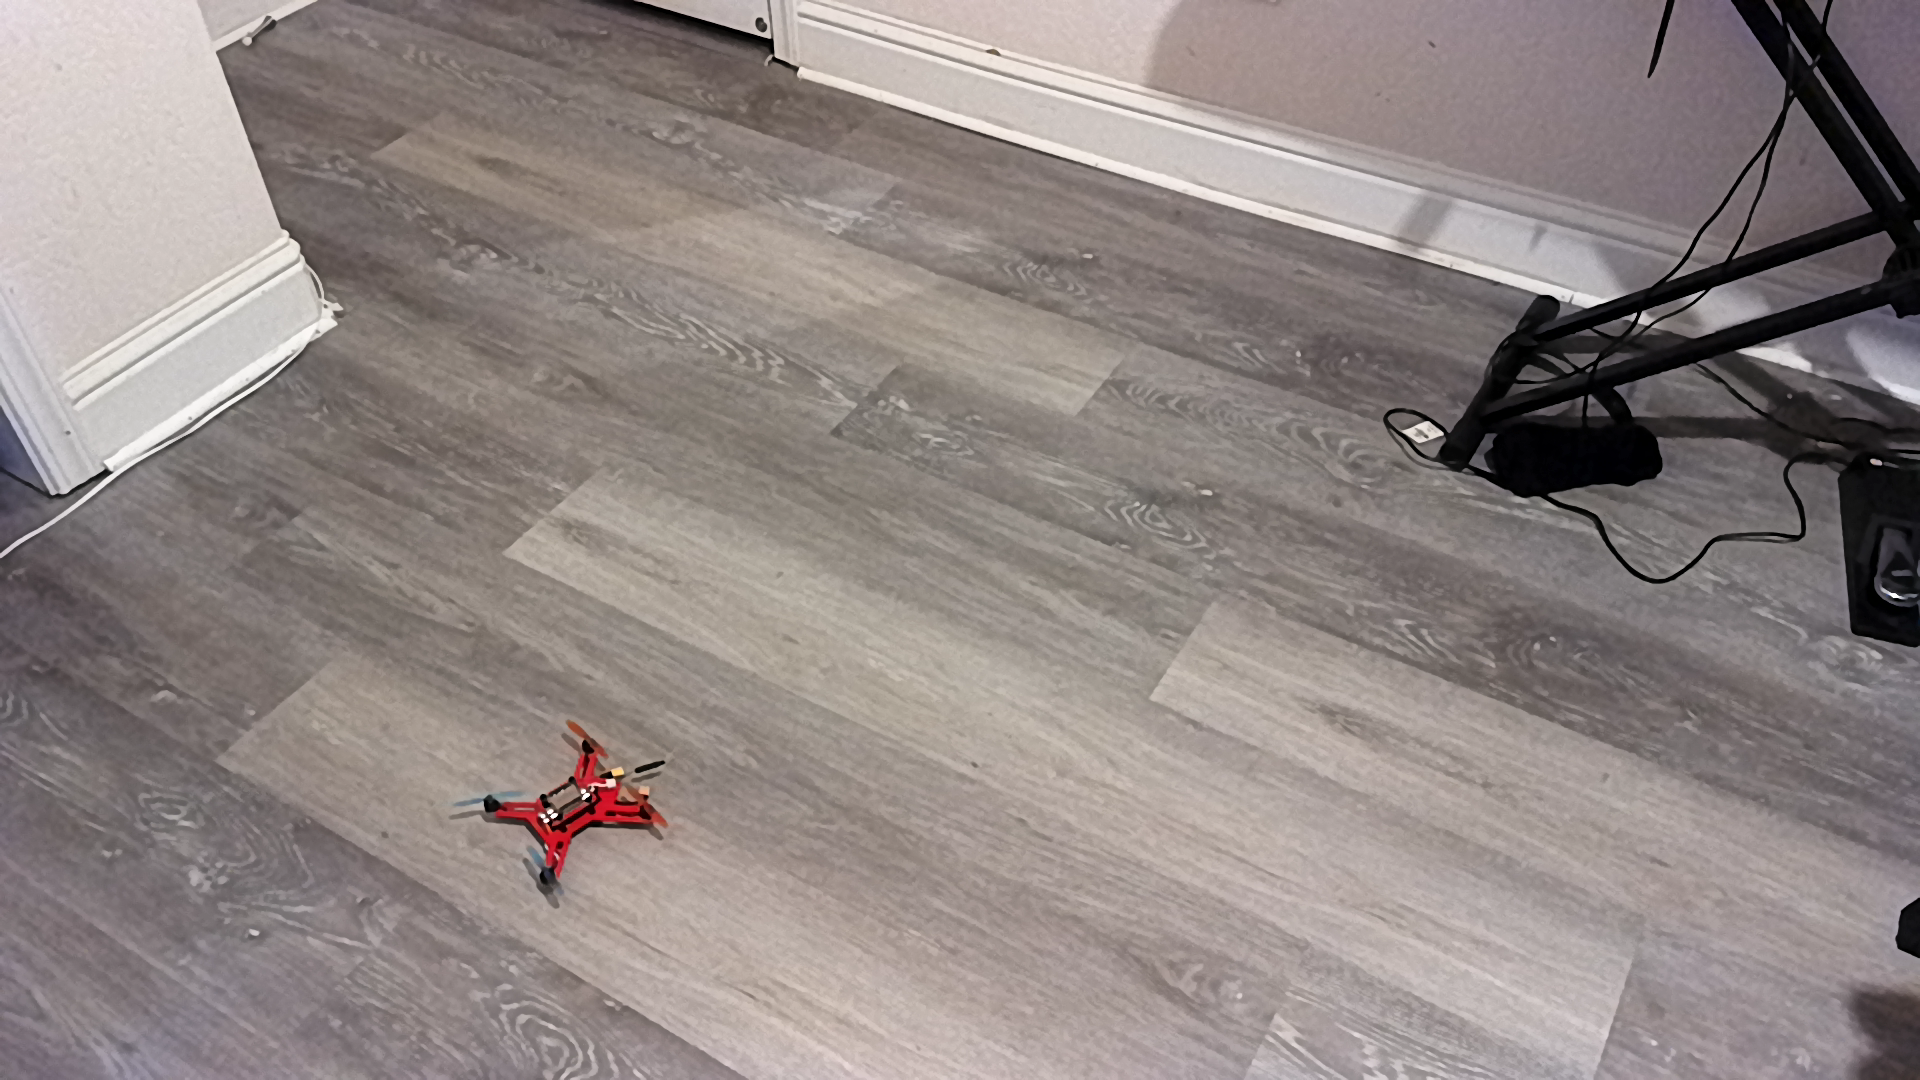drone: (454, 713, 700, 901)
